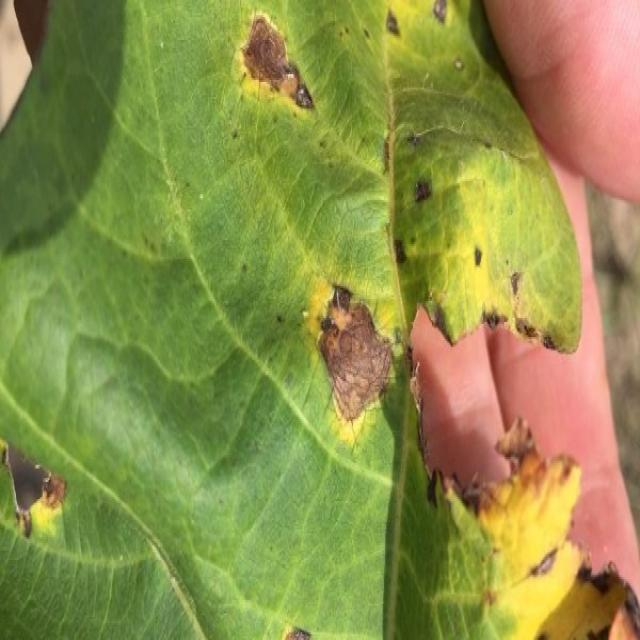Bacterial Blight: (315, 249, 566, 498)
